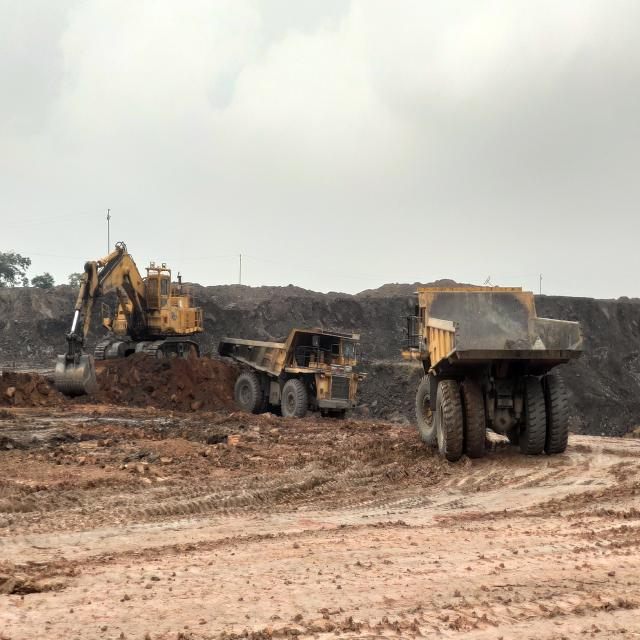dump_truck: (403, 280, 583, 463), (219, 329, 363, 419)
excavator: (55, 242, 203, 399)
